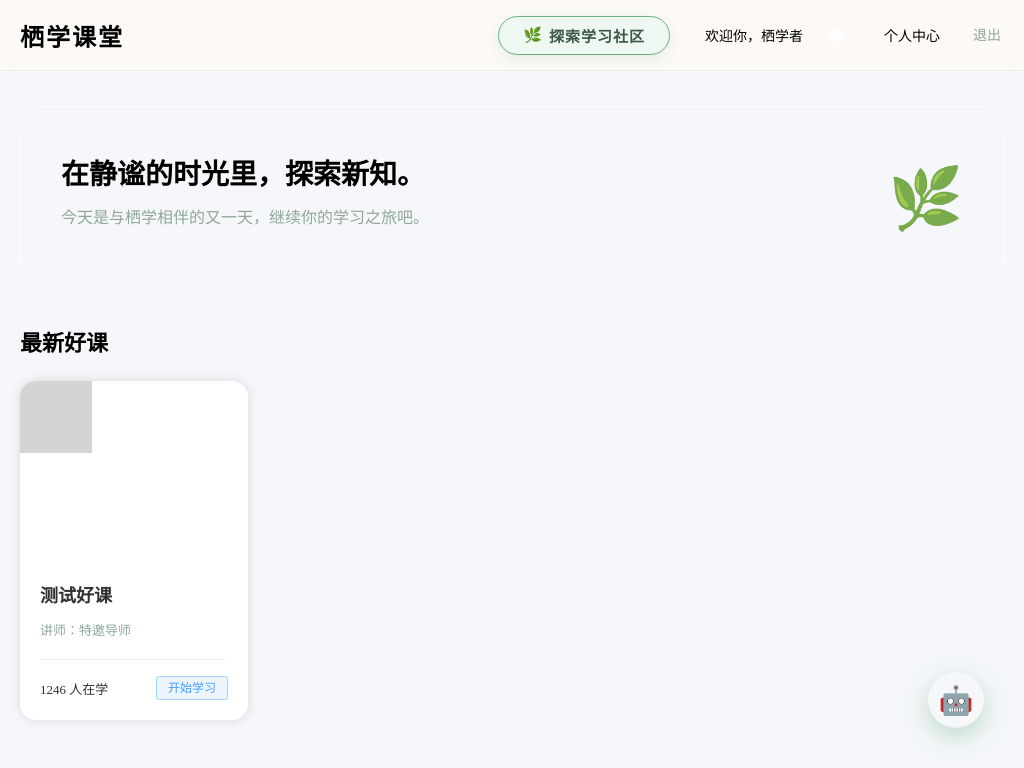
Test: Dashboard.vue 真实交互测试 › 场景3：AI 助手聊天交互
This screenshot has width=1024, height=768.
Note: 唤起 AI 面板
Step 1. Click the text with class "ai-fab" → click(956, 700), box [928,672,984,728]
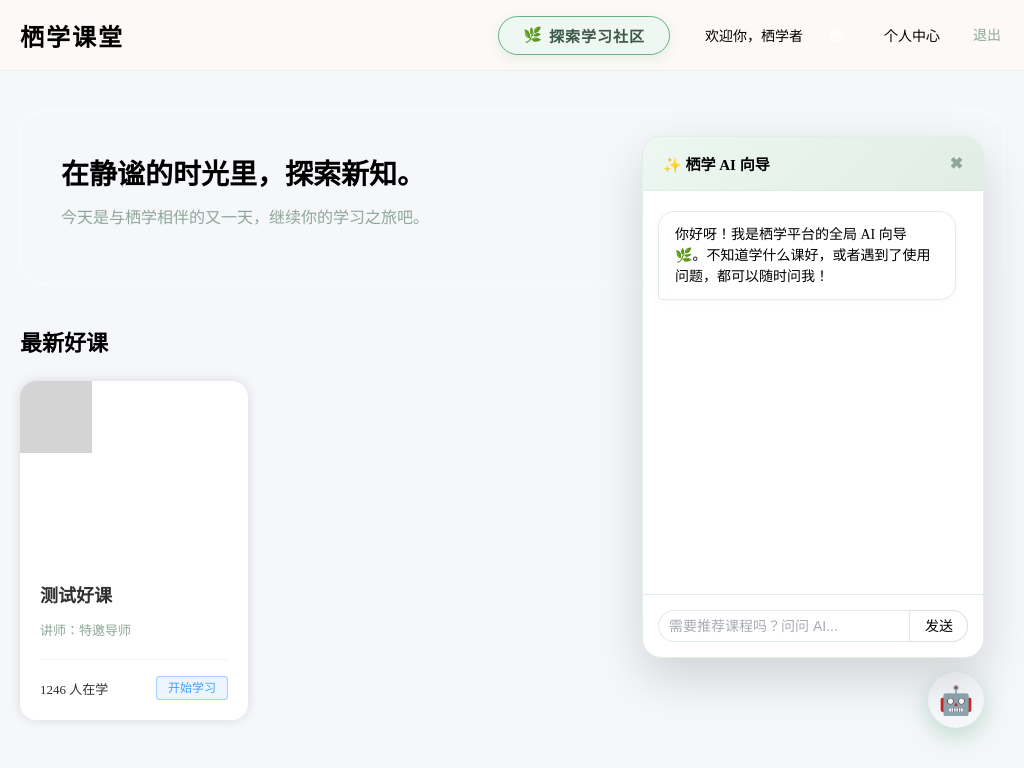
Step 2. Type "你好呀" into the field with placeholder "需要推荐课程吗？问问 AI..." → (784, 626), box [669,611,899,641]
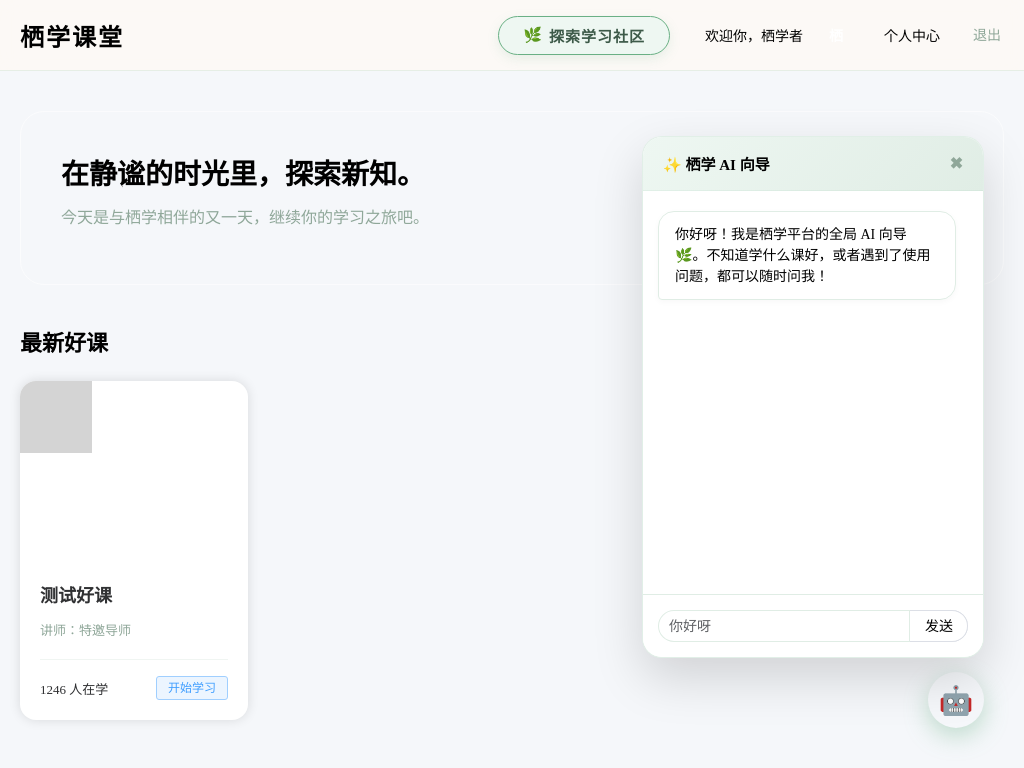
Step 3. Press Enter in the field, box [669,611,899,641]
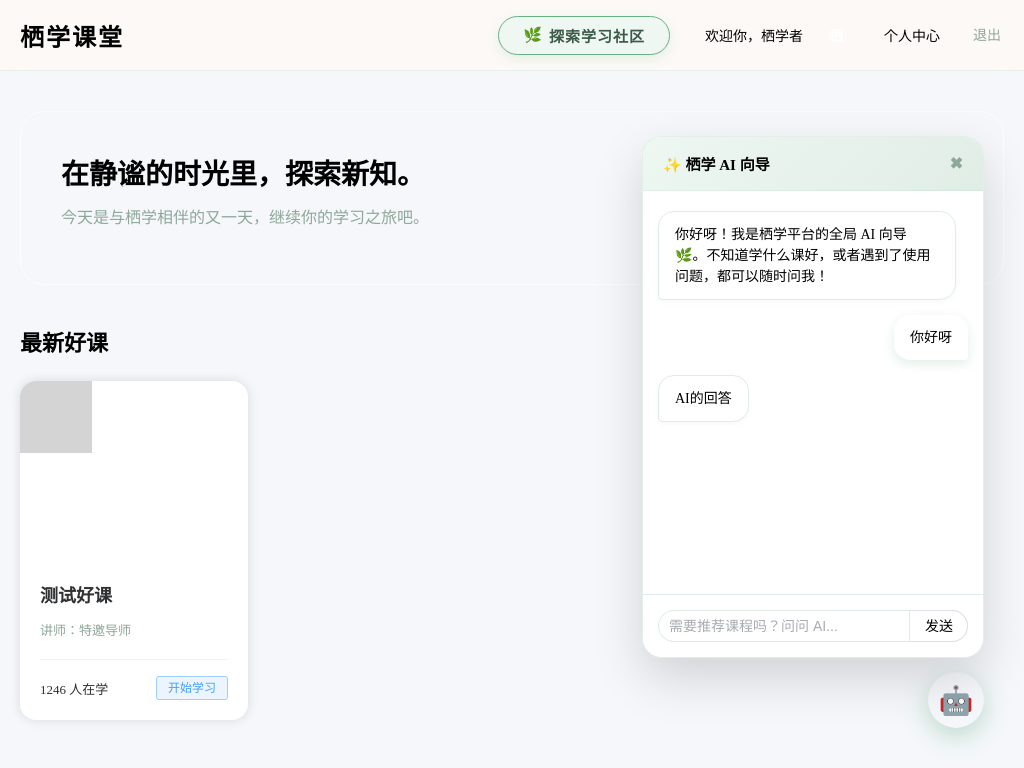
Expected: the text "AI的回答" is shown, [658,375,749,422]
